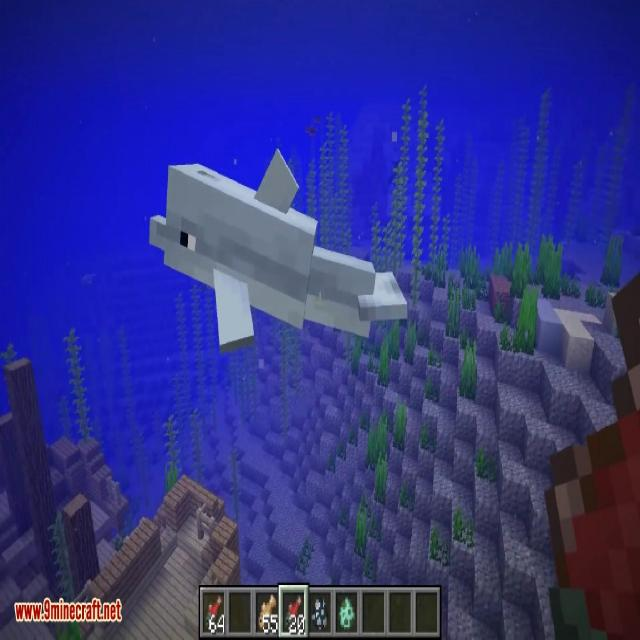Dolphin: (140, 133, 412, 365)
